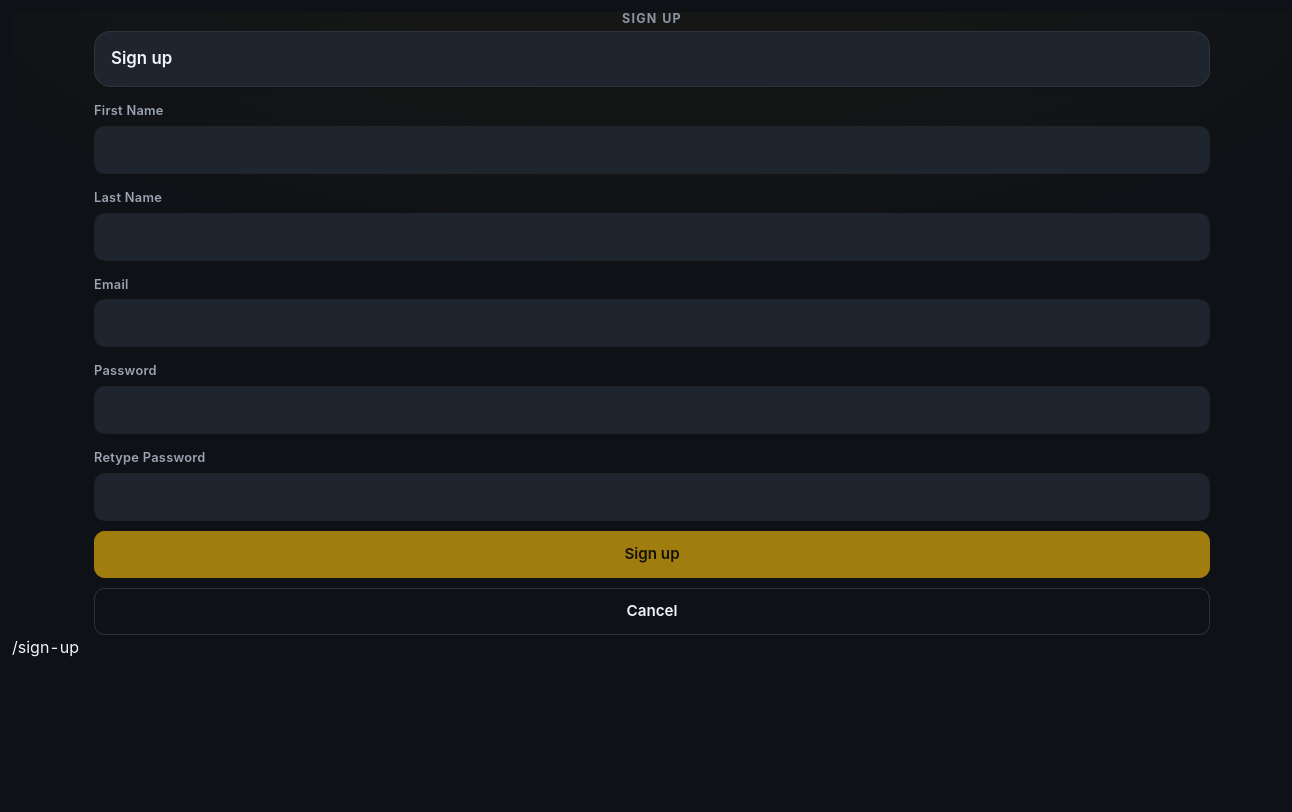
Scenario: SignUpScreen › offers a way to sign in when the email is already taken
Type "Jane" into the field labelled "First Name" at (652, 150), box x1=94 y1=126 x2=1210 y2=174
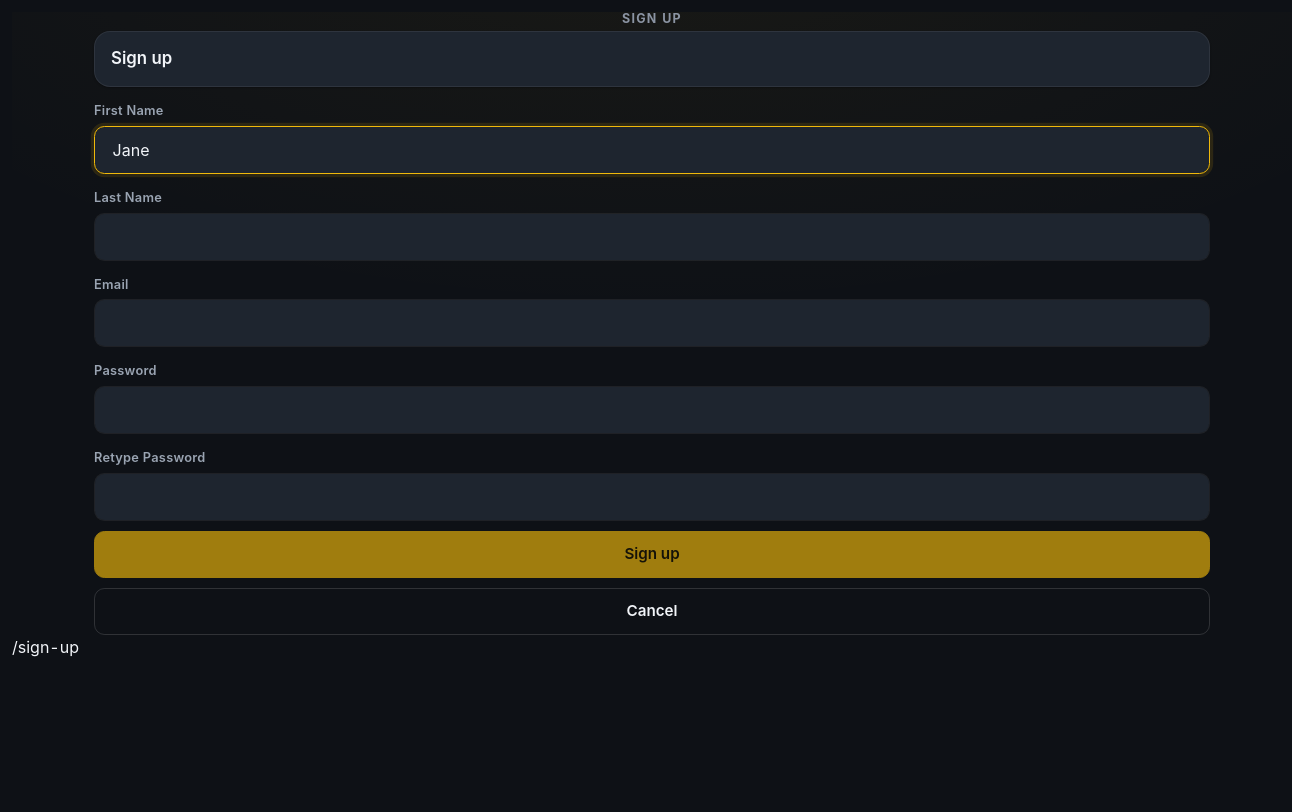
Type "Doe" into the field labelled "Last Name" at (652, 236), box x1=94 y1=212 x2=1210 y2=260
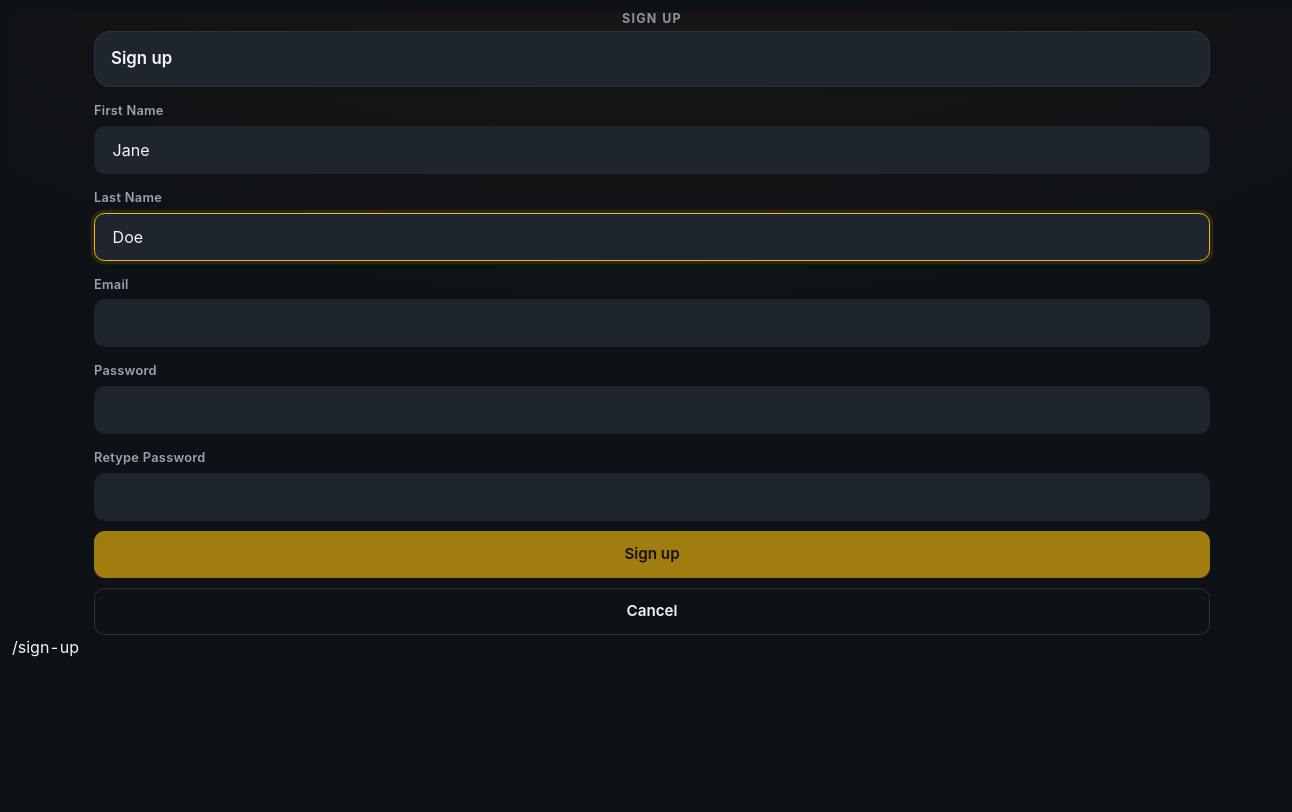
Type "jane@example.com" into the field labelled "Email" at (652, 323), box x1=94 y1=299 x2=1210 y2=347
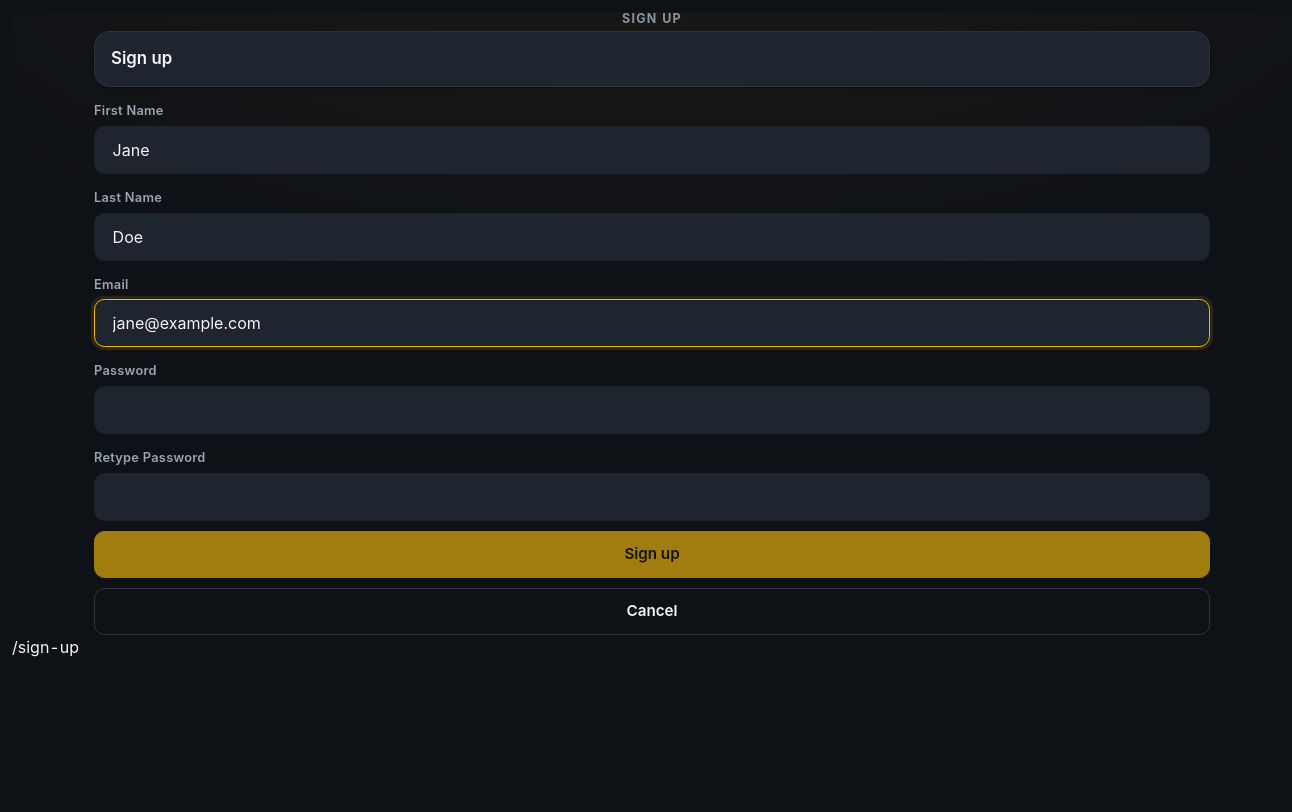
Type "hunter22!" into the password field labelled "Password" at (652, 410), box x1=94 y1=386 x2=1210 y2=434
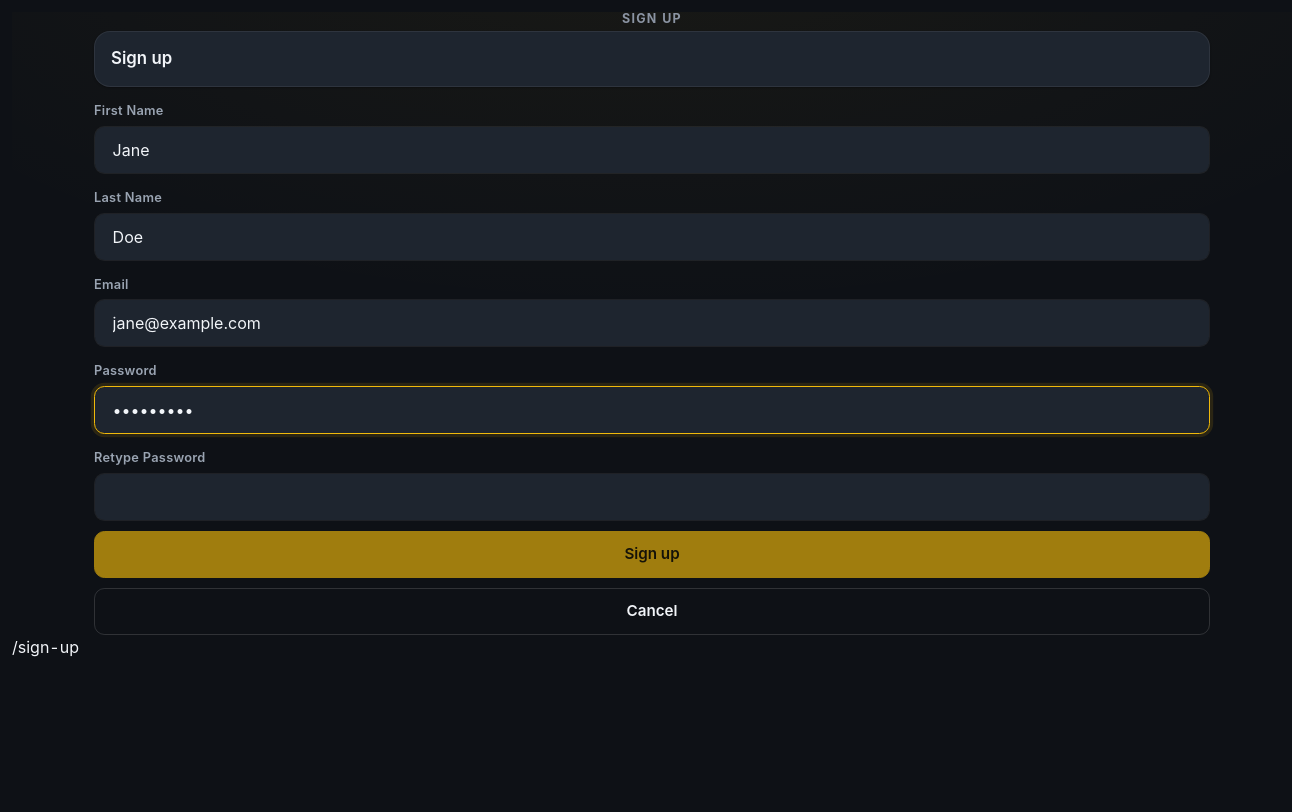
Type "hunter22!" into the password field labelled "Retype Password" at (652, 497), box x1=94 y1=473 x2=1210 y2=521
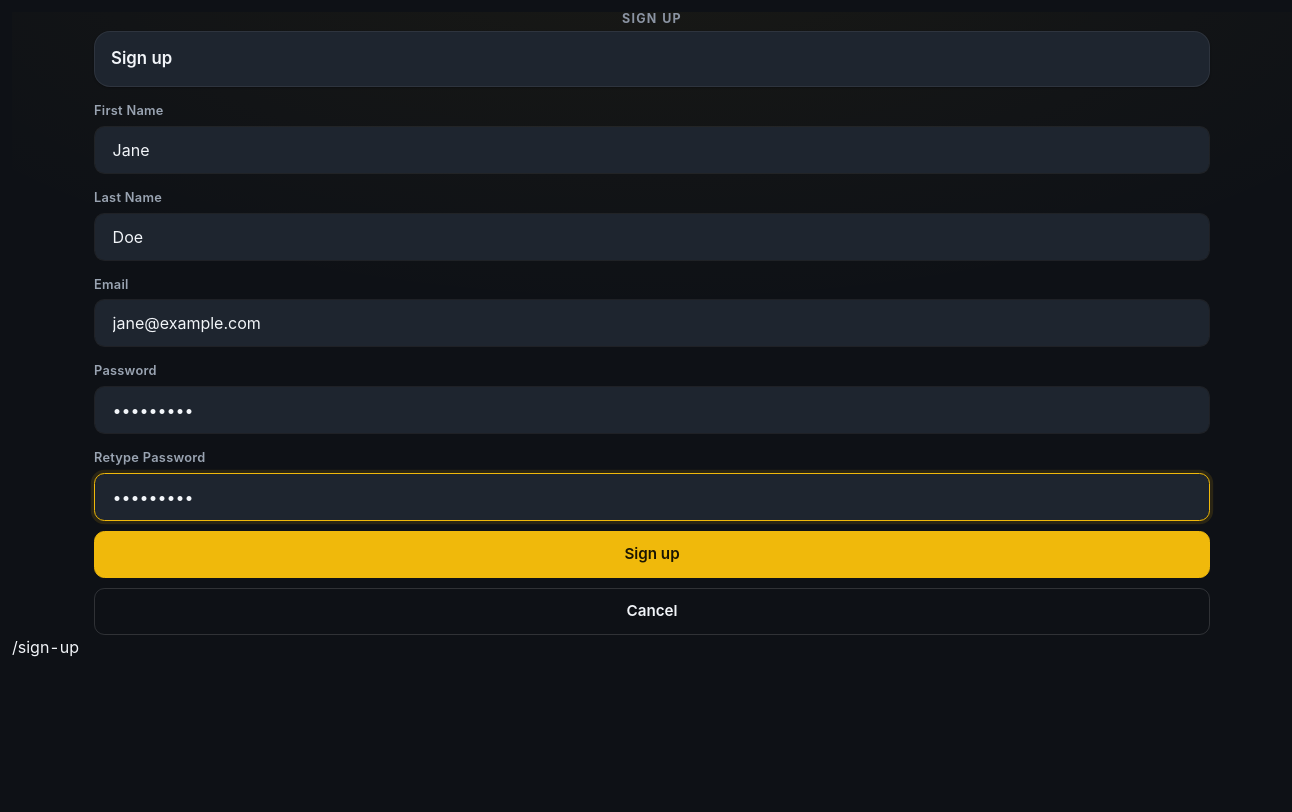
Click the button "Sign up" at (652, 554), box x1=94 y1=531 x2=1210 y2=578
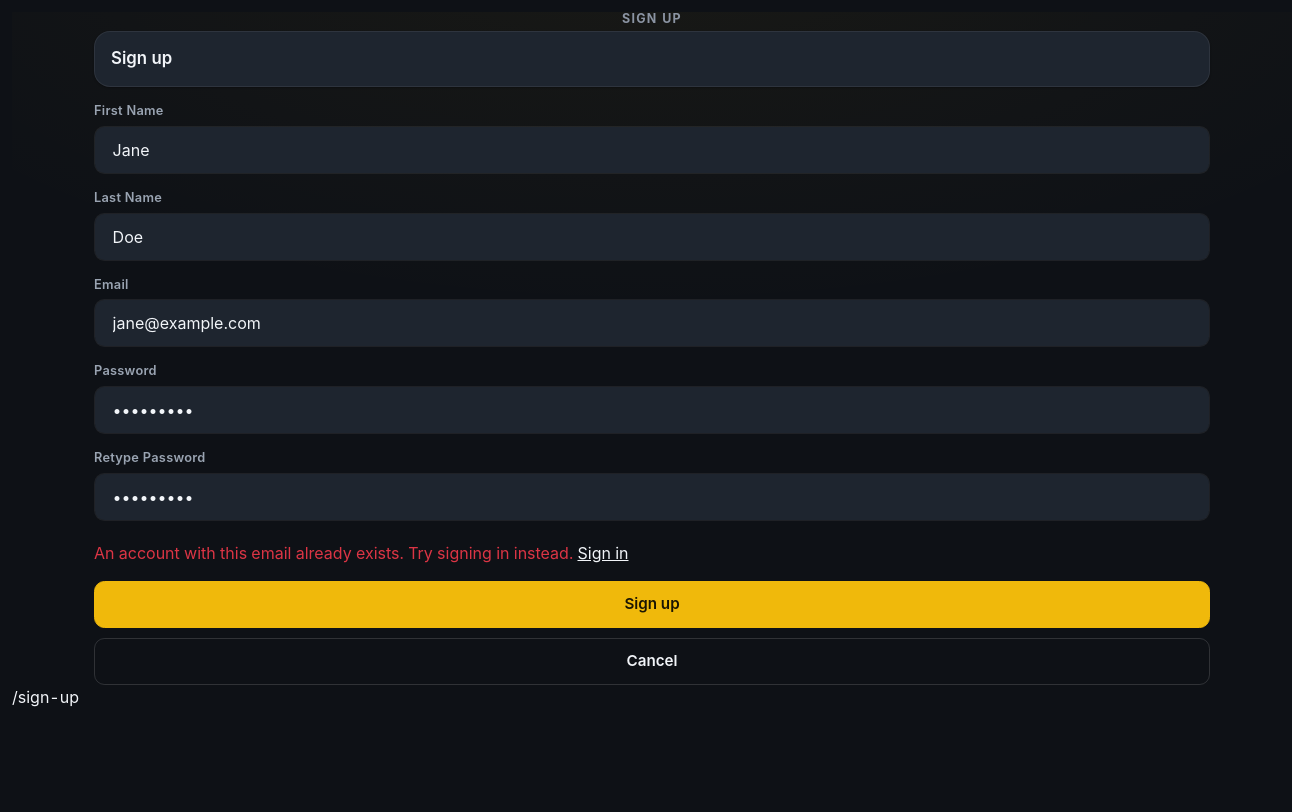
Expected: the message shows "An account with this email already exists.", x1=94 y1=543 x2=573 y2=563
